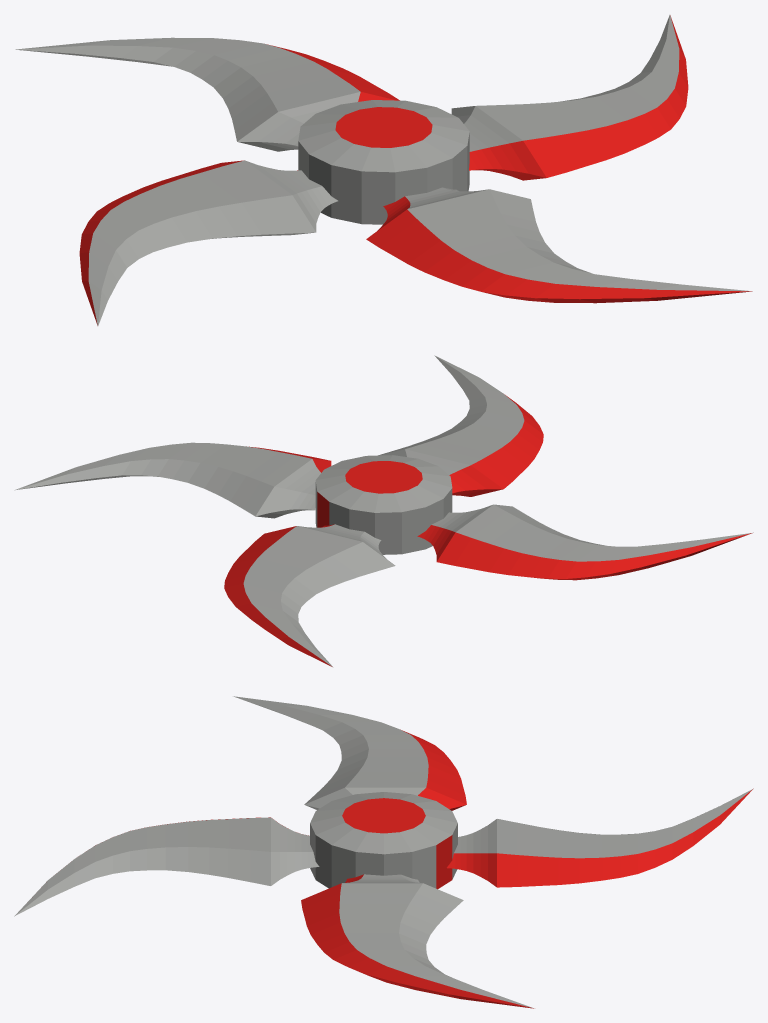
The model's file is Beyblade_Upgraded_Blade_Fire.fbx.
The picture shows the model from 3 angles, top to bottom: view 1: azimuth 30°, elevation 25°; view 2: azimuth 150°, elevation 25°; view 3: azimuth 270°, elevation 25°; orthographic projection. The views are drawn at different scales.
Parts seen in each view (by area): view 1: Circle.001; view 2: Circle.001; view 3: Circle.001.
Boxes of the visible parts, left/top/right/bottom form: Circle.001: left=15, top=15, right=752, bottom=325; Circle.001: left=14, top=355, right=753, bottom=667; Circle.001: left=14, top=696, right=753, bottom=1008.
Bounding box in the file's own units: 394 × 35.77 × 394.
1 material, 1 textured.
